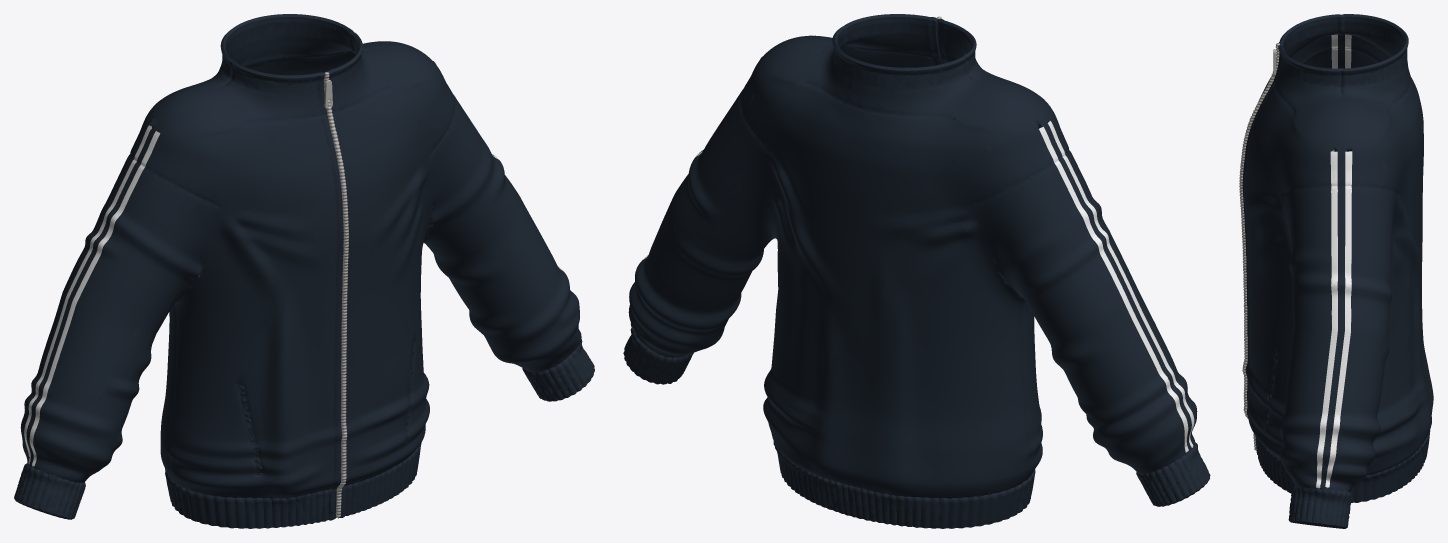
The model's file is 08_chaqueta_chandal_pbr.glb.
The picture shows the model from 3 angles, left to right: view 1: azimuth 30°, elevation 25°; view 2: azimuth 150°, elevation 25°; view 3: azimuth 270°, elevation 25°; orthographic projection. The views are drawn at different scales.
Parts seen in each view (by area): view 1: Camiseta PBR, Cordones y adornos, Cremallera; view 2: Camiseta PBR, Cordones y adornos; view 3: Camiseta PBR, Cordones y adornos, Cremallera.
Boxes of the visible parts, x1=… form: Camiseta PBR: x1=14, y1=14, x2=594, y2=528; Cordones y adornos: x1=24, y1=94, x2=563, y2=466; Cremallera: x1=324, y1=72, x2=348, y2=517; Camiseta PBR: x1=623, y1=14, x2=1210, y2=528; Cordones y adornos: x1=642, y1=88, x2=1194, y2=452; Camiseta PBR: x1=1242, y1=14, x2=1433, y2=528; Cordones y adornos: x1=1316, y1=34, x2=1352, y2=488; Cremallera: x1=1239, y1=43, x2=1280, y2=450.
Size of the model in its own units: 0.9987 by 0.7412 by 0.3153.
3 materials, 1 textured.
